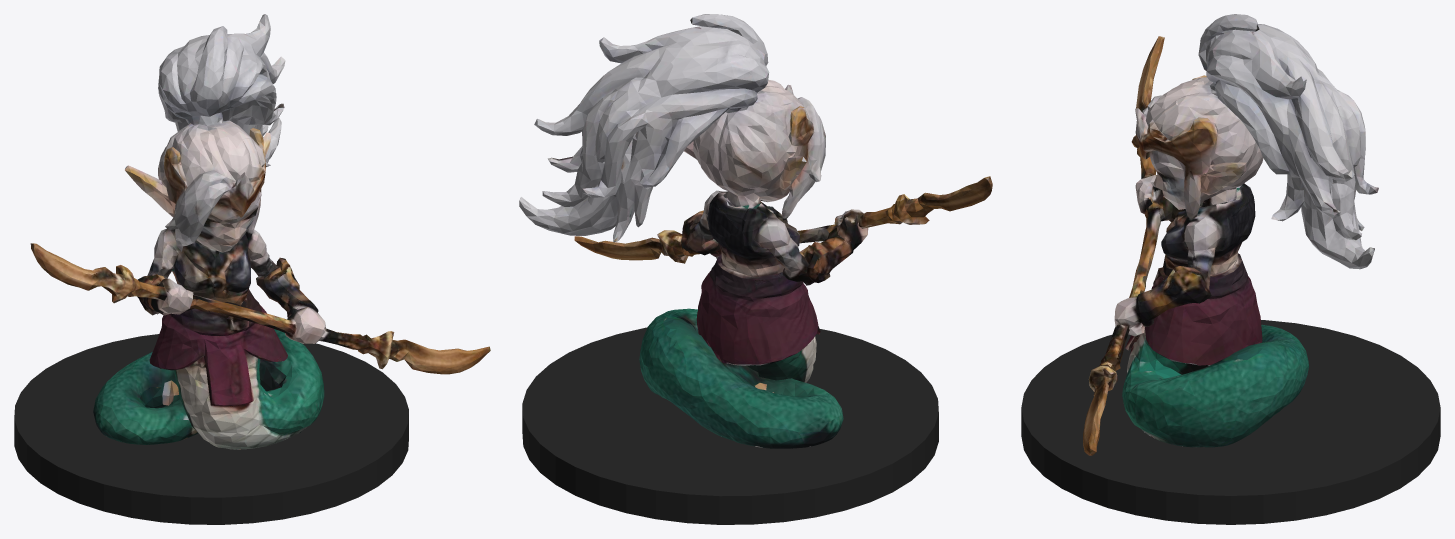
The model's file is dok-melusai-ironscale.glb.
3 renders of one model, left to right at view 1: azimuth 30°, elevation 25°; view 2: azimuth 150°, elevation 25°; view 3: azimuth 270°, elevation 25°, orthographic. The views are drawn at different scales.
Parts seen in each view (by area): view 1: figure, base; view 2: figure, base; view 3: figure, base.
Boxes of the visible parts, <box> form: figure: <box>30,14,490,449</box>; base: <box>14,334,408,524</box>; figure: <box>519,14,992,448</box>; base: <box>522,327,938,524</box>; figure: <box>1083,14,1378,455</box>; base: <box>1021,320,1440,524</box>.
Size of the model in its own units: 1.96 by 1.77 by 1.57.
2 materials, 1 textured.
